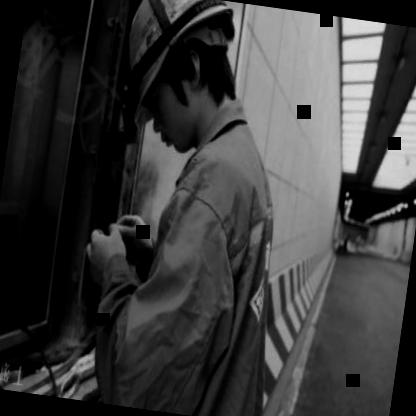helmet: (106, 0, 251, 168)
